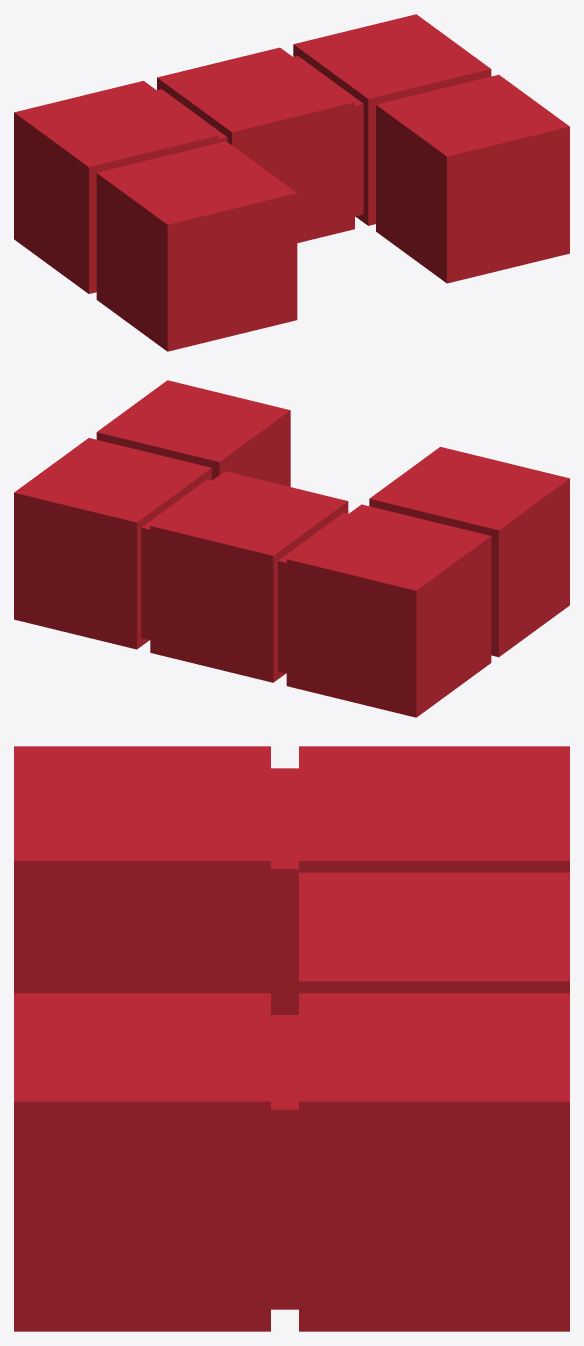
The model's file is block_piece_1.fbx.
3 renders of one model, top to bottom at view 1: azimuth 30°, elevation 25°; view 2: azimuth 150°, elevation 25°; view 3: azimuth 270°, elevation 25°, orthographic. The views are drawn at different scales.
Visible parts, largest first — view 1: Piece1; view 2: Piece1; view 3: Piece1.
Boxes of the visible parts, box(x1,y1,x2,y2) form: Piece1: box(14, 14, 569, 351); Piece1: box(14, 380, 569, 717); Piece1: box(14, 746, 569, 1331).
Bounding box in the file's own units: 72.09 × 21.73 × 47.66.
